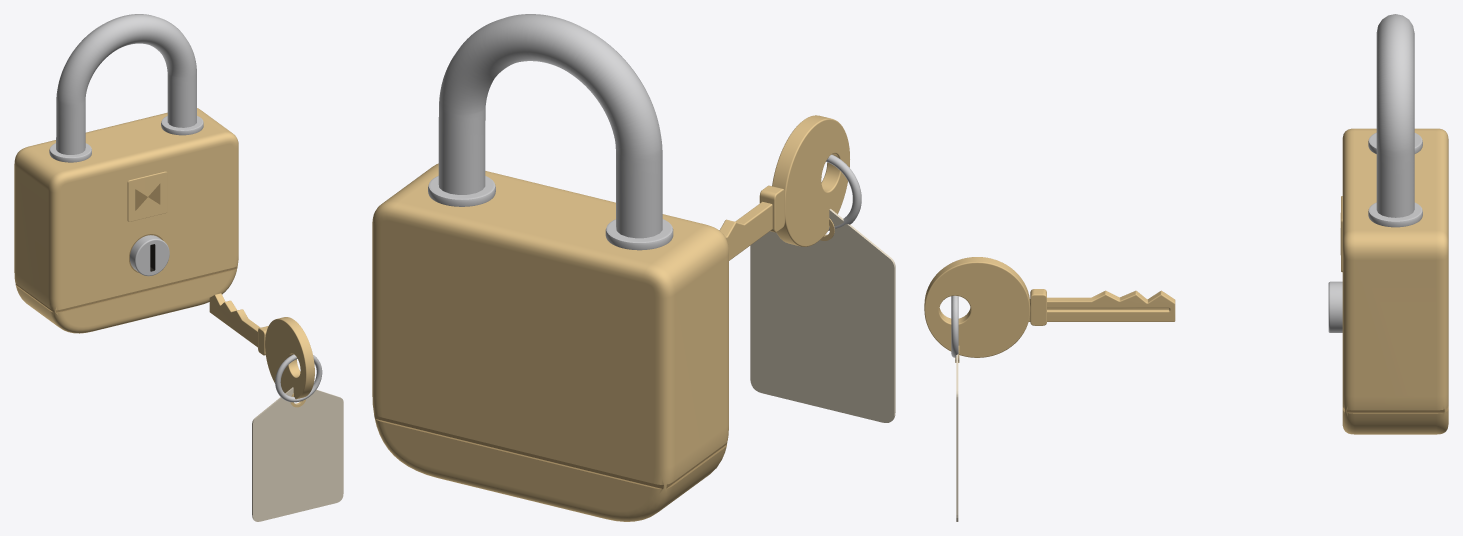
Rendered from padlock.glb.
The picture shows the model from 3 angles, left to right: view 1: azimuth 30°, elevation 25°; view 2: azimuth 150°, elevation 25°; view 3: azimuth 270°, elevation 25°; orthographic projection. The views are drawn at different scales.
Parts seen in each view (by area): view 1: body, tag, shackle_mesh, key; view 2: body, tag, shackle_mesh, key; view 3: body, key, shackle_mesh.
Boxes of the visible parts, bbox=[...] form: body: bbox=[14, 108, 238, 333]; tag: bbox=[252, 387, 343, 521]; shackle_mesh: bbox=[56, 14, 196, 154]; key: bbox=[209, 293, 322, 402]; body: bbox=[372, 163, 728, 521]; tag: bbox=[750, 209, 895, 422]; shackle_mesh: bbox=[438, 14, 662, 238]; key: bbox=[719, 115, 861, 260]; body: bbox=[1328, 128, 1448, 434]; key: bbox=[924, 257, 1175, 357]; shackle_mesh: bbox=[1376, 14, 1414, 217].
Bounding box in the file's own units: 0.05 × 0.0937 × 0.094.
